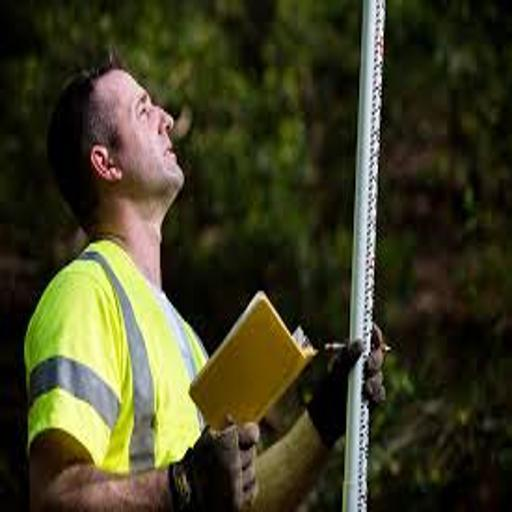Humans: (30, 41, 399, 512)
Vest: (35, 225, 235, 512)
